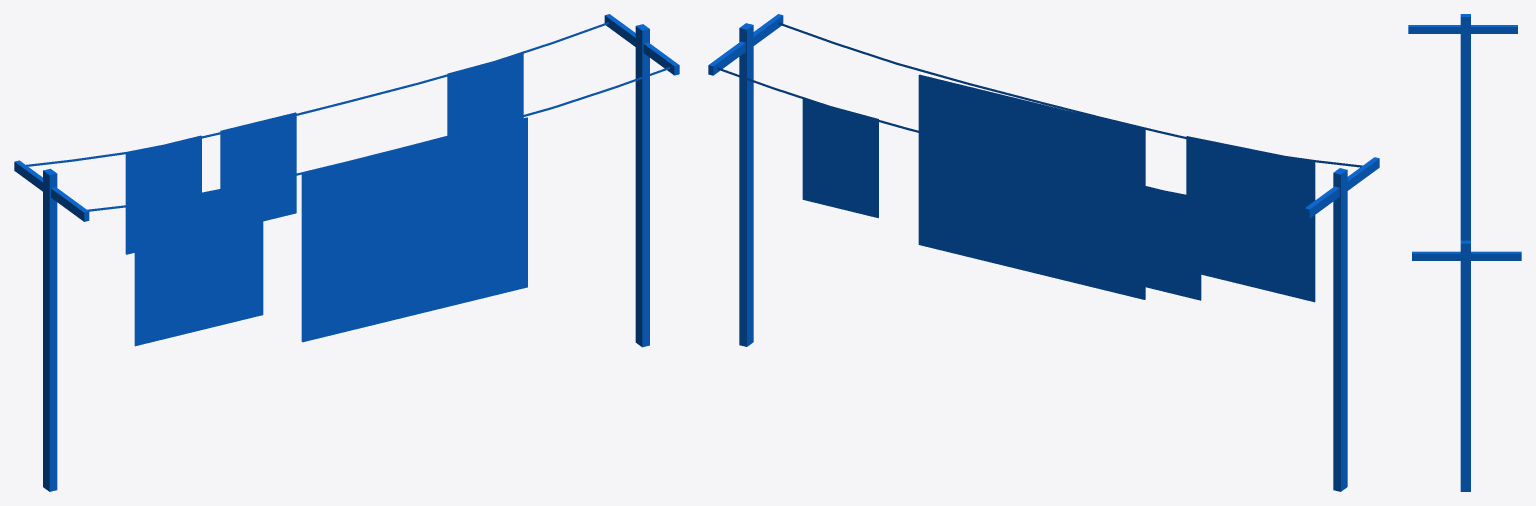
The model's file is Clothes_drying_Rack_01_Loc0.fbx.
The picture shows the model from 3 angles, left to right: view 1: azimuth 30°, elevation 25°; view 2: azimuth 150°, elevation 25°; view 3: azimuth 270°, elevation 25°; orthographic projection. The views are drawn at different scales.
Visible parts, largest first — view 1: Clothes_drying_Rack_01_Loc0; view 2: Clothes_drying_Rack_01_Loc0; view 3: Clothes_drying_Rack_01_Loc0.
Boxes of the visible parts, <box> form: Clothes_drying_Rack_01_Loc0: <box>14,14,679,491</box>; Clothes_drying_Rack_01_Loc0: <box>708,14,1379,491</box>; Clothes_drying_Rack_01_Loc0: <box>1408,14,1521,491</box>.
Bounding box in the file's own units: 656 × 331 × 137.
